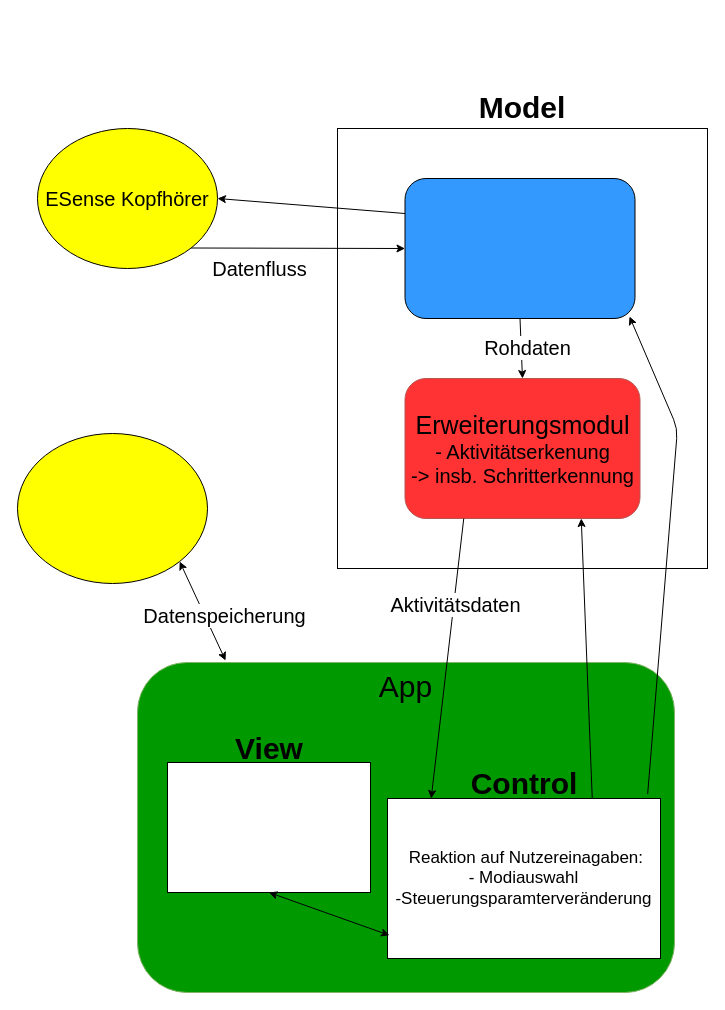
The diagram is 725 pixels wide and 1010 high, and some of its shapes have lost their labels. The centre of each missing label's shape, as x and y in pixels:
"- (Live)-Datenanzeige - Bedienoberfläche" goes at (268,827).
"Bibliothek - Datenauslesung - Steuerungsparamteranpassung" goes at (519,248).
"Device" goes at (112,508).
